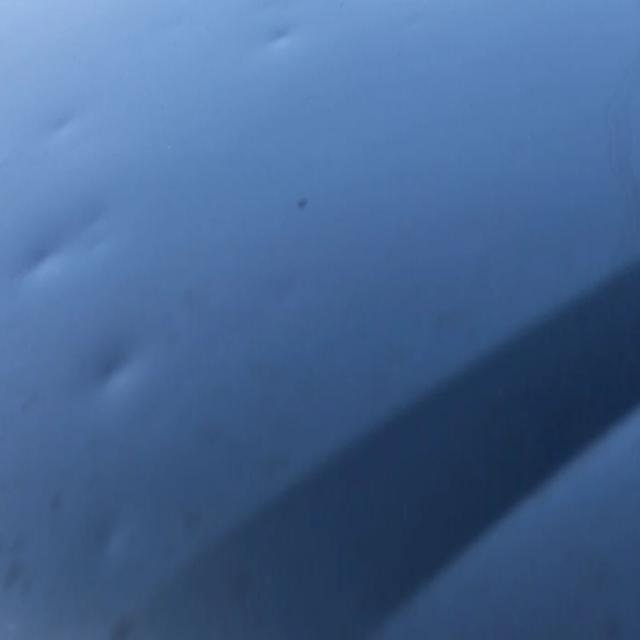dents: (84, 328, 150, 424), (86, 496, 156, 562), (16, 234, 64, 320), (38, 99, 107, 152), (76, 195, 117, 279), (257, 12, 319, 62)
